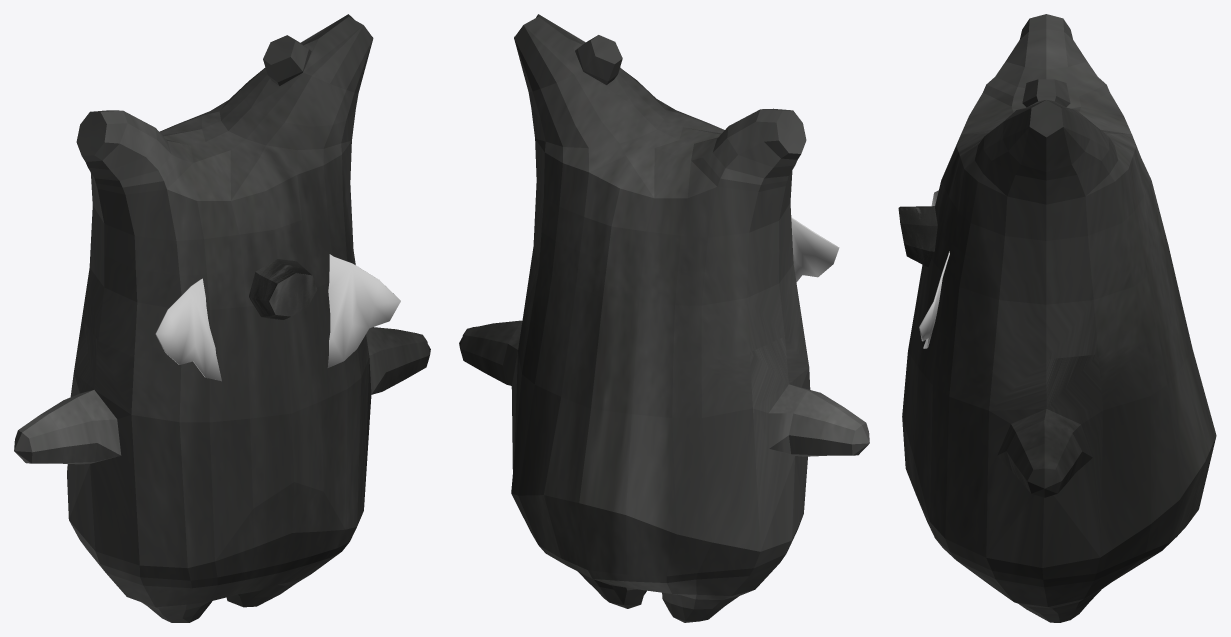
The model's file is frame_0002.obj.
3 views of the same model, side by side, from view 1: azimuth 30°, elevation 25°; view 2: azimuth 150°, elevation 25°; view 3: azimuth 270°, elevation 25° (orthographic).
Parts seen in each view (by area): view 1: korok, leaf, nose; view 2: korok, leaf; view 3: korok, nose, leaf.
Part boxes in pixels (<box>): korok: <box>14,14,430,622</box>; leaf: <box>155,254,400,381</box>; nose: <box>249,259,317,319</box>; korok: <box>459,14,869,622</box>; leaf: <box>791,217,839,282</box>; korok: <box>902,14,1216,622</box>; nose: <box>898,206,937,267</box>; leaf: <box>919,190,949,348</box>.
Bounding box in the file's own units: 1.78 × 2.33 × 1.18.
